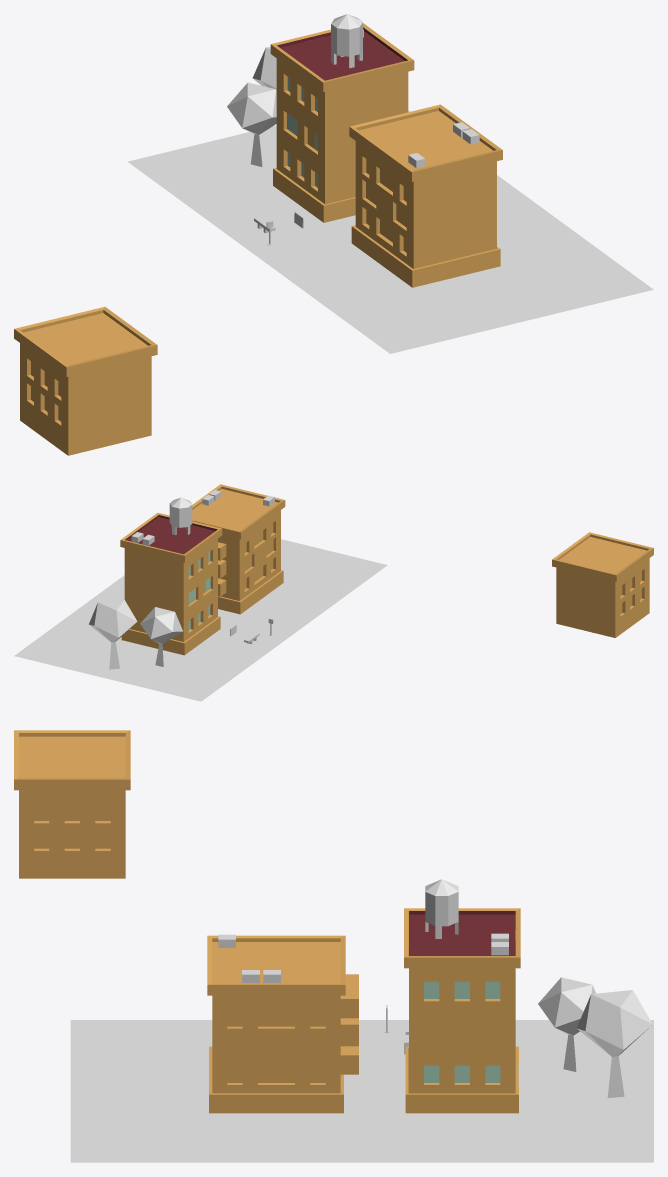
Rendered from city_test_bake_3.glb.
The picture shows the model from 3 angles, top to bottom: view 1: azimuth 30°, elevation 25°; view 2: azimuth 150°, elevation 25°; view 3: azimuth 270°, elevation 25°; orthographic projection. The views are drawn at different scales.
Visible parts, largest first — view 1: ground, building, building.001, Cube, tree, on_the_roof.005, tree.001; view 2: ground, building.001, Cube, building, tree.001, tree, on_the_roof.005; view 3: ground, building, building.001, Cube, tree.001, tree, on_the_roof.005.
Part boxes in pixels (x1,y1,x2,y2): ground: [128, 110, 653, 353]; building: [349, 104, 502, 287]; building.001: [270, 23, 414, 222]; Cube: [14, 306, 157, 455]; tree: [227, 82, 276, 166]; on_the_roof.005: [331, 14, 362, 68]; tree.001: [252, 47, 276, 89]; ground: [14, 539, 387, 701]; building.001: [120, 512, 222, 655]; Cube: [552, 532, 653, 637]; building: [192, 484, 285, 614]; tree.001: [88, 599, 137, 669]; tree: [140, 607, 182, 666]; on_the_roof.005: [169, 497, 192, 534]; ground: [70, 1020, 653, 1162]; building: [207, 935, 358, 1113]; building.001: [404, 908, 520, 1113]; Cube: [14, 730, 130, 878]; tree.001: [577, 990, 652, 1097]; tree: [538, 977, 595, 1071]; on_the_roof.005: [425, 879, 458, 938].
Size of the model in its own units: 14.71 by 4.3 by 11.98.
2 materials, 1 textured.
